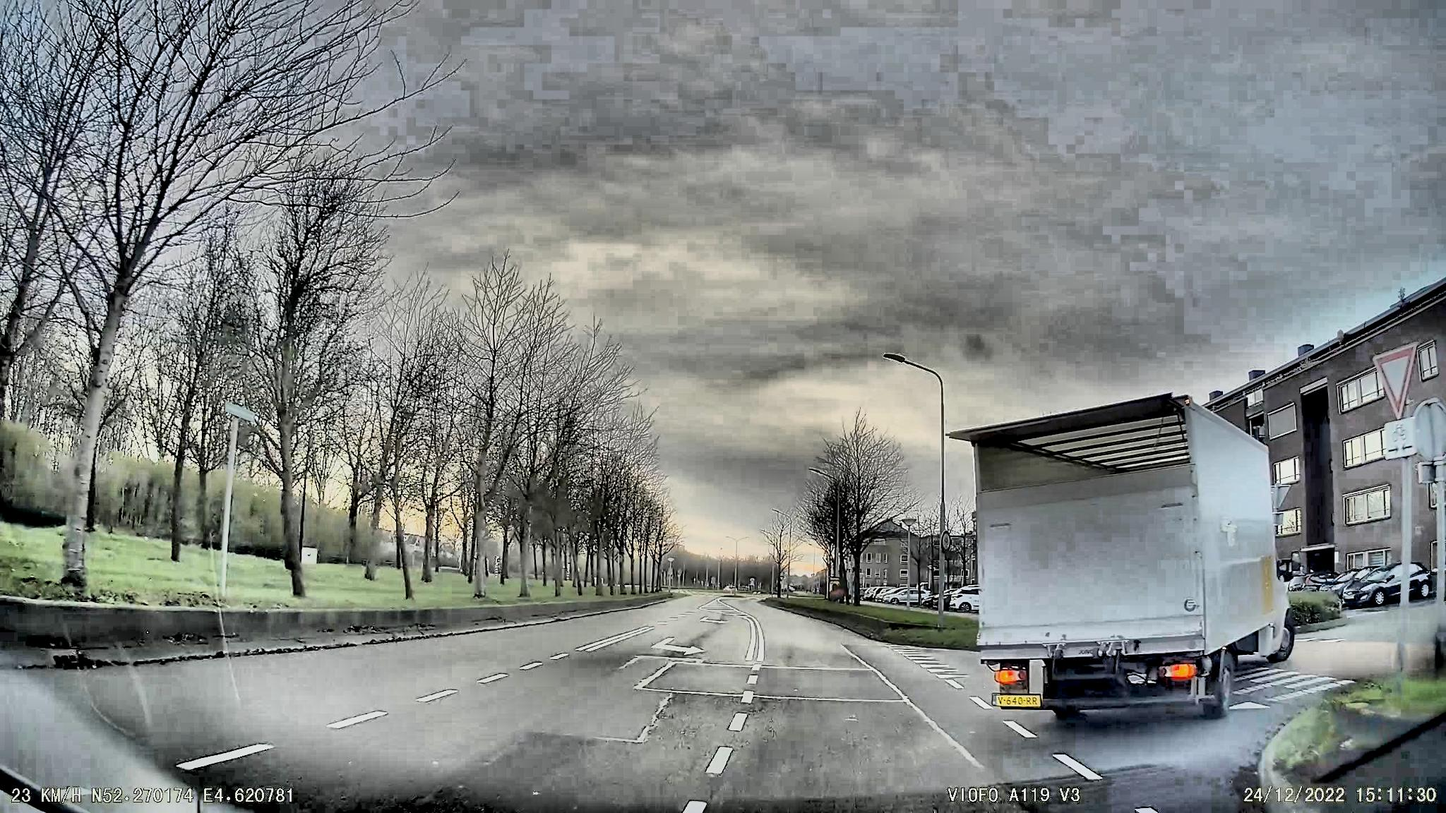Roads: (0, 600, 1286, 813)
